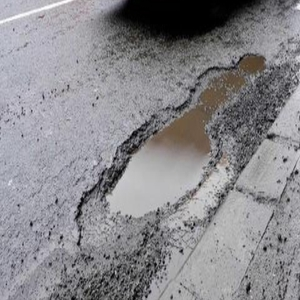pothole: (83, 53, 266, 224)
